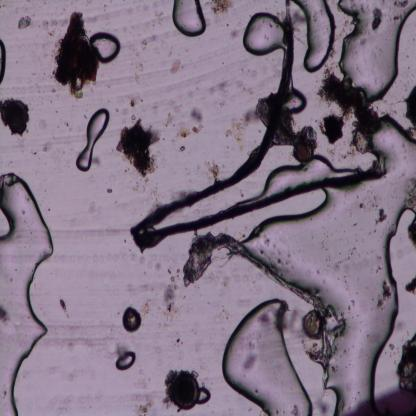Air bubble: (250, 117, 414, 416), (0, 165, 54, 416), (223, 295, 312, 416), (336, 0, 416, 99), (297, 0, 337, 75), (264, 154, 334, 194), (74, 106, 110, 172), (170, 0, 208, 39), (92, 31, 122, 64), (286, 87, 308, 114), (116, 349, 137, 369), (0, 41, 9, 84)
Background material: (317, 64, 380, 136), (53, 9, 99, 101), (114, 118, 160, 176), (351, 381, 416, 416), (242, 9, 285, 56), (49, 334, 118, 358), (394, 322, 416, 388), (0, 96, 30, 139), (225, 110, 257, 142), (316, 113, 346, 145), (161, 284, 182, 328), (402, 85, 416, 135), (52, 253, 138, 261), (124, 279, 167, 295), (276, 116, 298, 146), (297, 126, 318, 155), (373, 278, 391, 309), (256, 94, 274, 124), (132, 393, 153, 416), (163, 369, 175, 408), (368, 5, 384, 32), (207, 0, 234, 16), (210, 77, 231, 97), (285, 310, 300, 338), (78, 227, 124, 236), (405, 213, 416, 250), (210, 268, 230, 288), (204, 158, 221, 180), (158, 112, 174, 134), (314, 397, 331, 416), (57, 297, 70, 321), (372, 205, 389, 223), (40, 19, 58, 36), (142, 32, 159, 50), (175, 121, 192, 139), (404, 269, 416, 294), (198, 384, 212, 405), (0, 304, 14, 325), (242, 352, 258, 370), (136, 367, 148, 391), (292, 9, 303, 35), (132, 178, 149, 194), (190, 105, 205, 123), (254, 312, 272, 326), (167, 266, 181, 283), (238, 81, 254, 95), (340, 147, 356, 161), (169, 57, 181, 75), (17, 14, 32, 28), (375, 255, 385, 275), (339, 18, 350, 36), (141, 300, 150, 318), (310, 286, 321, 300), (393, 0, 409, 9), (229, 29, 240, 41), (327, 147, 337, 160), (192, 124, 205, 134), (157, 12, 166, 26), (330, 364, 340, 374), (174, 336, 184, 346), (38, 118, 46, 130), (134, 70, 140, 85), (129, 97, 138, 107), (43, 142, 52, 152), (359, 3, 366, 15), (34, 83, 42, 93), (92, 156, 100, 166), (218, 99, 228, 107), (351, 245, 358, 256), (153, 181, 158, 196), (330, 51, 336, 63), (338, 258, 350, 264), (293, 404, 299, 416), (388, 341, 396, 350), (249, 340, 256, 350), (137, 61, 143, 72), (358, 38, 366, 46), (154, 263, 161, 272), (394, 14, 403, 21), (277, 260, 284, 268), (348, 0, 355, 8), (59, 20, 68, 26), (106, 187, 112, 195), (132, 48, 138, 56), (264, 238, 270, 246), (350, 299, 356, 307), (21, 207, 27, 215), (64, 121, 70, 128), (259, 247, 264, 255), (154, 200, 159, 208), (168, 47, 172, 57), (180, 146, 186, 152), (148, 260, 152, 269), (85, 0, 91, 6), (184, 46, 189, 53), (34, 150, 39, 157), (140, 257, 145, 264), (42, 73, 46, 81), (269, 23, 274, 29), (340, 311, 345, 317), (196, 164, 201, 170), (131, 113, 135, 120), (61, 8, 65, 15), (321, 239, 324, 248), (83, 115, 88, 120), (32, 72, 38, 76), (348, 305, 351, 313), (336, 265, 340, 271), (114, 108, 119, 112), (10, 277, 14, 282), (51, 88, 56, 92), (317, 269, 321, 274), (70, 0, 73, 6), (25, 0, 31, 3), (222, 60, 225, 66), (365, 334, 369, 338), (43, 0, 46, 5), (241, 193, 244, 198), (247, 69, 250, 74), (344, 349, 347, 354), (50, 99, 53, 104), (395, 111, 398, 115), (406, 54, 409, 58), (360, 348, 362, 354), (348, 326, 351, 330), (2, 4, 5, 7), (62, 150, 65, 153), (69, 128, 72, 131), (16, 60, 18, 64), (338, 277, 340, 280), (75, 6, 77, 9), (365, 323, 367, 326), (360, 329, 362, 332), (348, 363, 351, 365), (226, 24, 229, 26), (68, 165, 70, 168), (56, 110, 58, 113), (370, 327, 372, 329), (346, 366, 348, 368), (353, 345, 354, 348), (0, 6, 1, 8)
Cellulose filter fibre: (182, 230, 327, 312)
Cotton: (131, 3, 383, 250)
Diatom: (168, 372, 198, 408), (302, 308, 322, 339), (121, 304, 143, 331), (292, 143, 309, 165)
